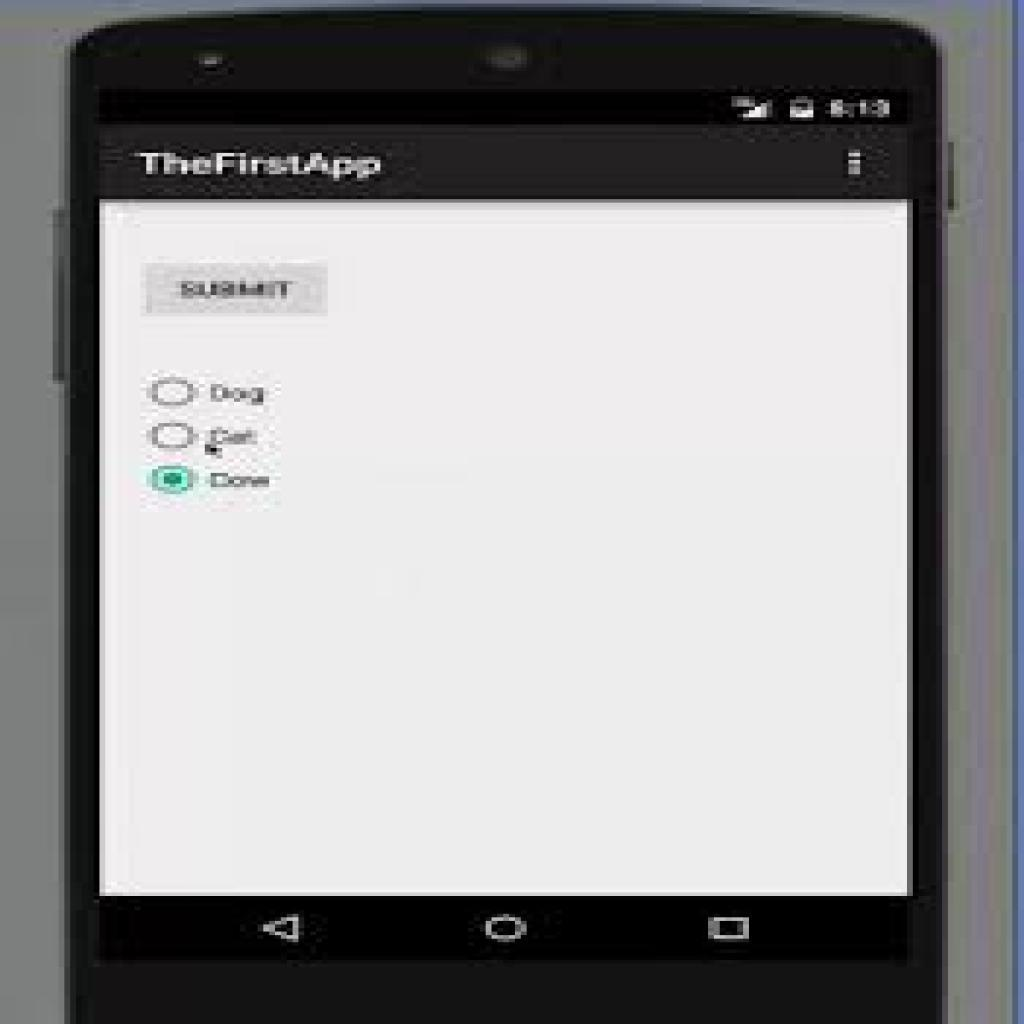button: (144, 265, 328, 316)
label: (207, 381, 269, 409), (210, 424, 262, 453), (210, 471, 273, 493)
radio: (147, 373, 201, 411), (149, 419, 199, 455), (147, 464, 200, 496)
